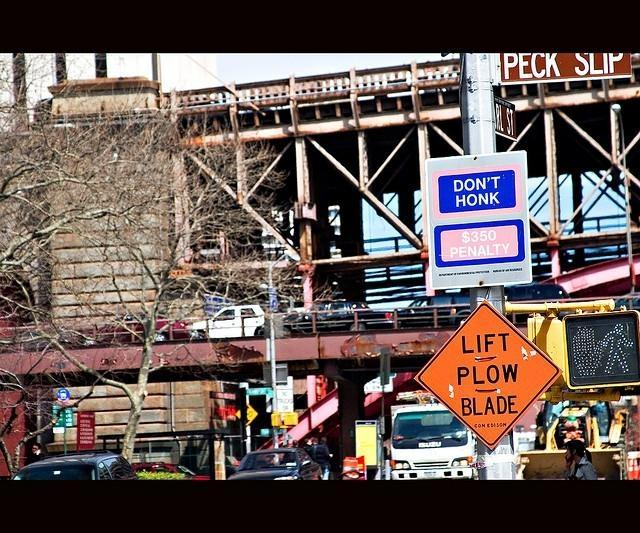car: (11, 450, 139, 480), (281, 302, 396, 334), (226, 448, 324, 480), (189, 304, 268, 338), (554, 406, 593, 449), (504, 282, 571, 304), (132, 462, 210, 480)
truck: (389, 388, 514, 481)
